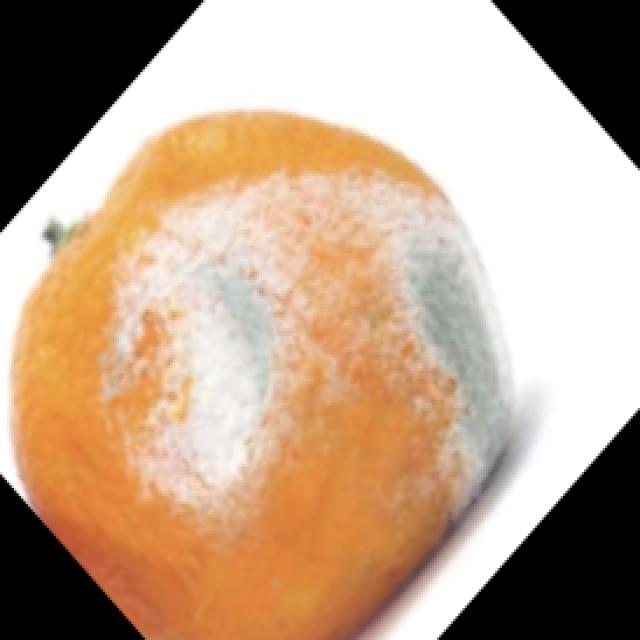sedikit-busuk: (12, 113, 515, 639)
